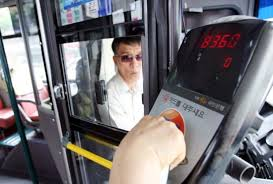terminal: (126, 15, 273, 183)
